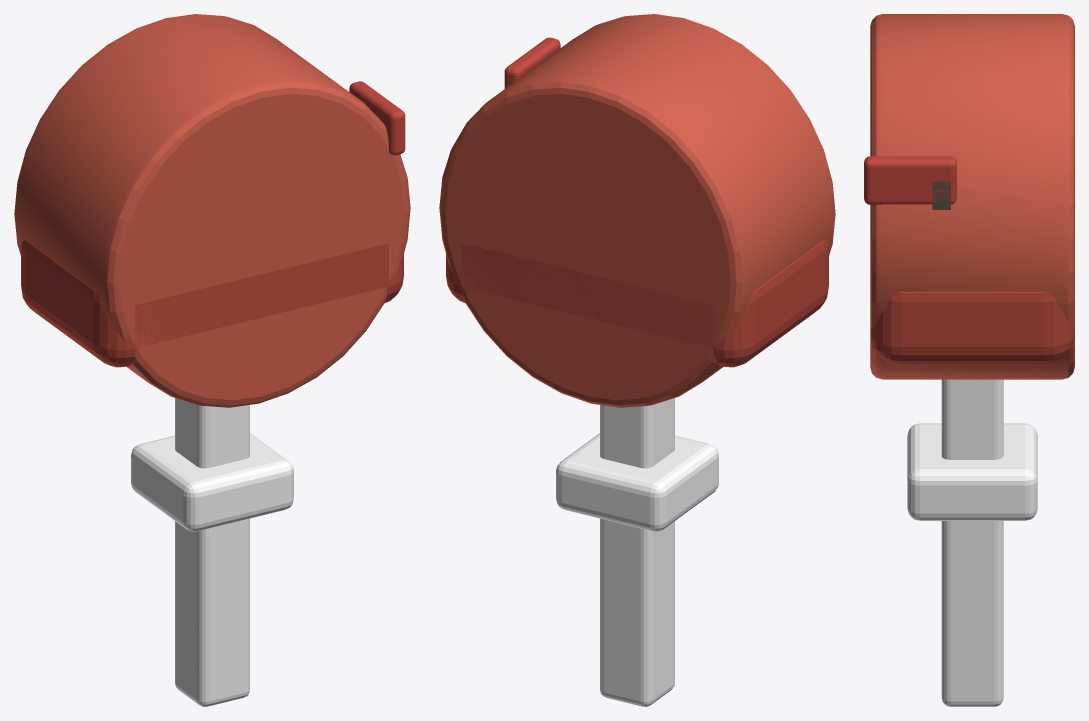
File: ui-mailbox.glb
The picture shows the model from 3 angles, left to right: view 1: azimuth 30°, elevation 25°; view 2: azimuth 150°, elevation 25°; view 3: azimuth 270°, elevation 25°; orthographic projection. The views are drawn at different scales.
Parts seen in each view (by area): view 1: UI · mailbox curved lid, UI · mailbox body, UI · mailbox post, UI · mailbox post collar, UI · mailbox raised flag; view 2: UI · mailbox curved lid, UI · mailbox body, UI · mailbox post, UI · mailbox post collar, UI · mailbox raised flag; view 3: UI · mailbox curved lid, UI · mailbox post, UI · mailbox body, UI · mailbox post collar, UI · mailbox raised flag, UI · mailbox flag post.
Part boxes in pixels (bbox=[...]): UI · mailbox curved lid: bbox=[14, 14, 410, 407]; UI · mailbox body: bbox=[21, 240, 403, 367]; UI · mailbox post: bbox=[175, 398, 249, 706]; UI · mailbox post collar: bbox=[131, 433, 293, 531]; UI · mailbox raised flag: bbox=[349, 81, 405, 155]; UI · mailbox curved lid: bbox=[439, 14, 835, 407]; UI · mailbox body: bbox=[446, 240, 828, 367]; UI · mailbox post: bbox=[600, 398, 674, 706]; UI · mailbox post collar: bbox=[556, 433, 718, 531]; UI · mailbox raised flag: bbox=[504, 37, 560, 88]; UI · mailbox curved lid: bbox=[870, 14, 1074, 379]; UI · mailbox post: bbox=[941, 379, 1003, 706]; UI · mailbox body: bbox=[870, 291, 1074, 364]; UI · mailbox post collar: bbox=[907, 423, 1037, 520]; UI · mailbox raised flag: bbox=[864, 156, 956, 204]; UI · mailbox flag post: bbox=[932, 181, 950, 209].
Size of the model in its own units: 1.18 by 2.37 by 0.68.
